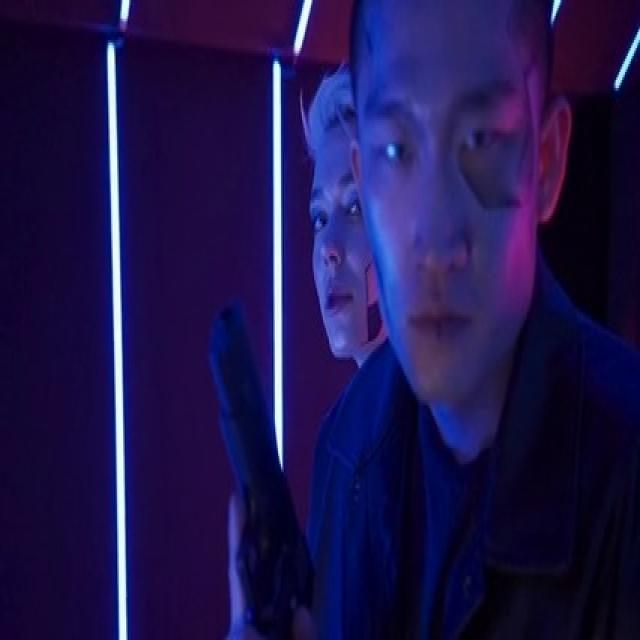Gun_Holder: (187, 286, 338, 640)
Person: (329, 0, 640, 640), (292, 55, 392, 639)
